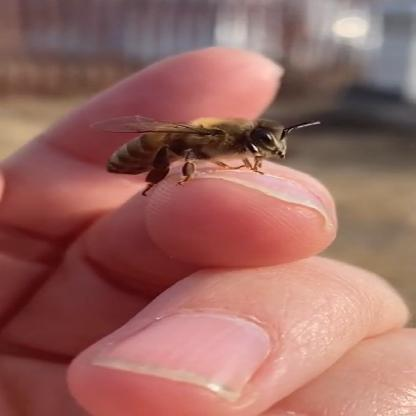bee: (62, 89, 369, 194)
